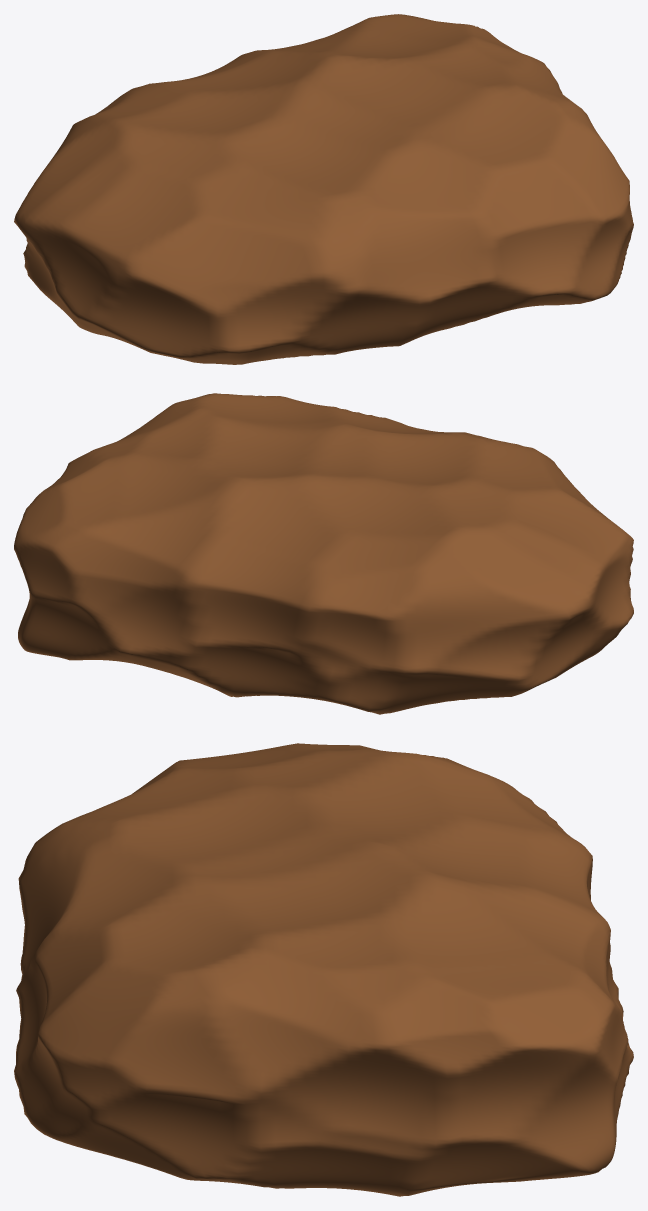
Rendered from small platform.fbx.
3 renders of one model, top to bottom at view 1: azimuth 30°, elevation 25°; view 2: azimuth 150°, elevation 25°; view 3: azimuth 270°, elevation 25°, orthographic. The views are drawn at different scales.
Visible parts, largest first — view 1: Cube.003; view 2: Cube.003; view 3: Cube.003.
Part boxes in pixels (x1,y1,x2,y2): Cube.003: [14, 14, 633, 364]; Cube.003: [14, 393, 633, 714]; Cube.003: [14, 743, 633, 1196].
Bounding box in the file's own units: 3299 × 1128 × 2690.
